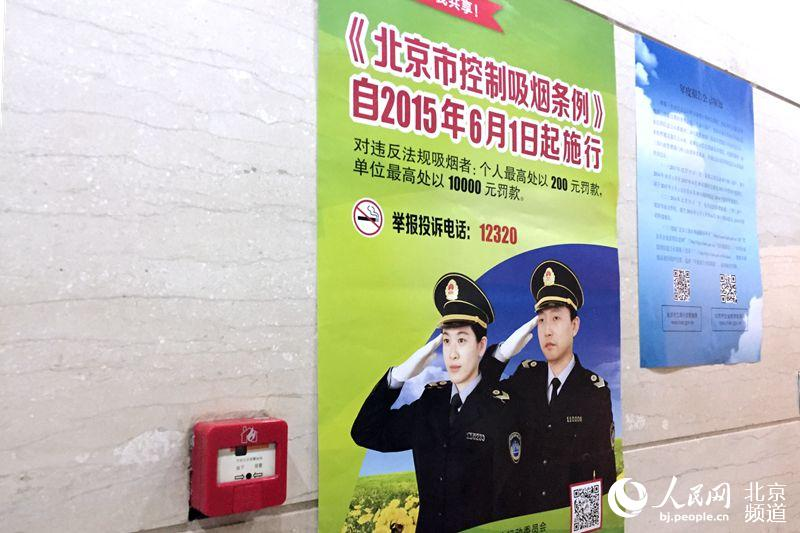bill: (316, 2, 626, 533), (638, 31, 762, 371)
